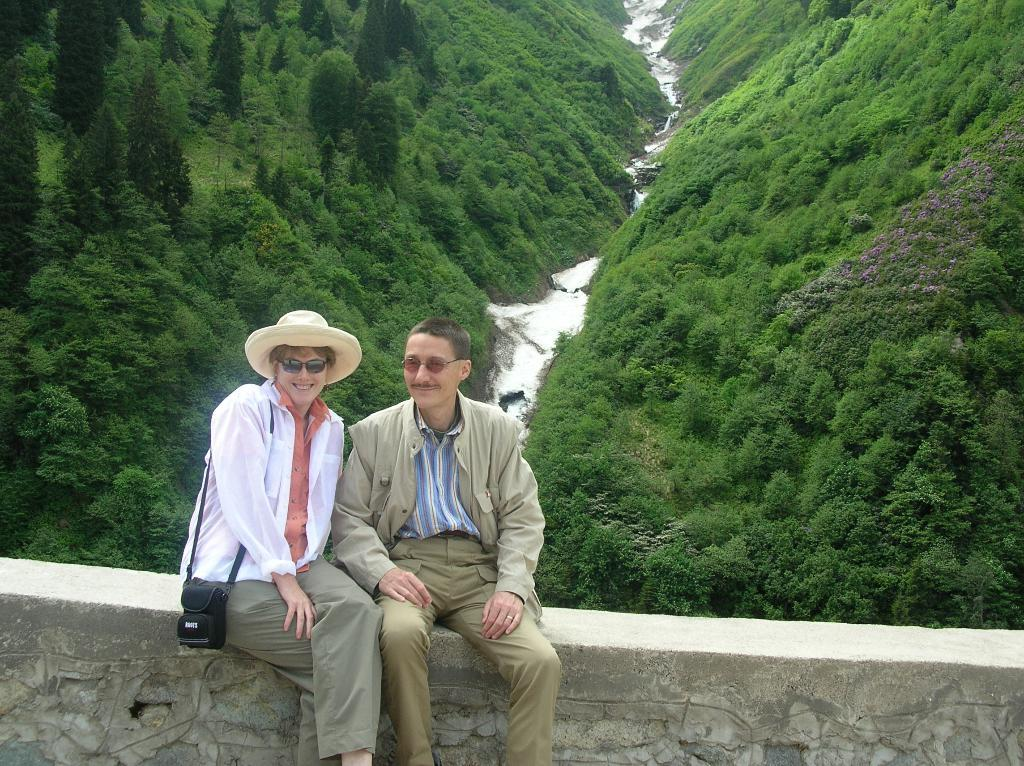Hat: (242, 309, 361, 384)
